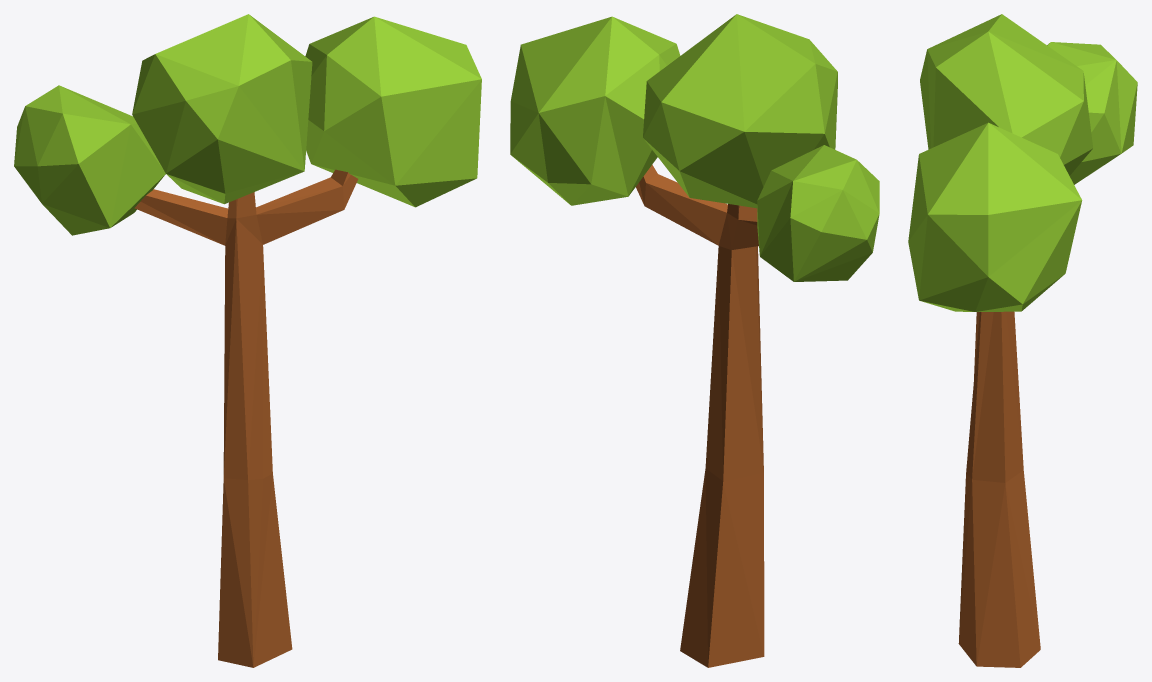
The model's file is SmallTree_01.glb.
3 renders of one model, left to right at view 1: azimuth 30°, elevation 25°; view 2: azimuth 150°, elevation 25°; view 3: azimuth 270°, elevation 25°, orthographic. The views are drawn at different scales.
Parts seen in each view (by area): view 1: Tree_01; view 2: Tree_01; view 3: Tree_01.
Boxes of the visible parts, x1,y1,x2,y2 form: Tree_01: [14, 14, 481, 667]; Tree_01: [510, 14, 879, 667]; Tree_01: [908, 14, 1137, 667].
Size of the model in its own units: 1.87 by 2.78 by 0.9377.
1 material, 1 textured.
